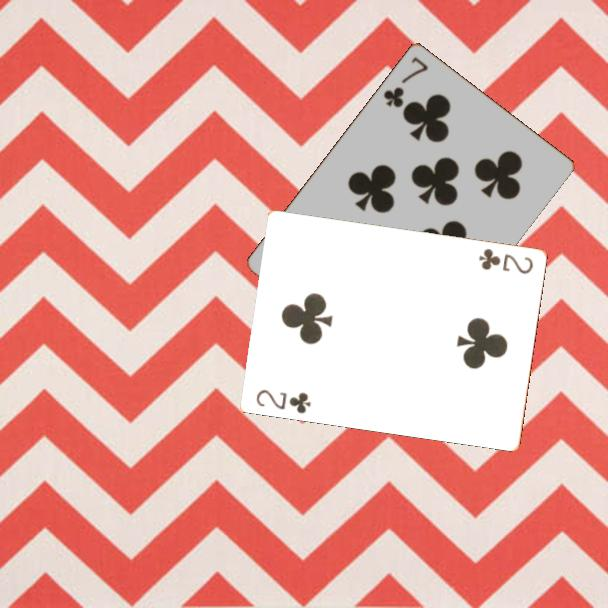c02: (476, 245, 536, 277), (253, 386, 314, 416)
c07: (380, 53, 431, 110)
